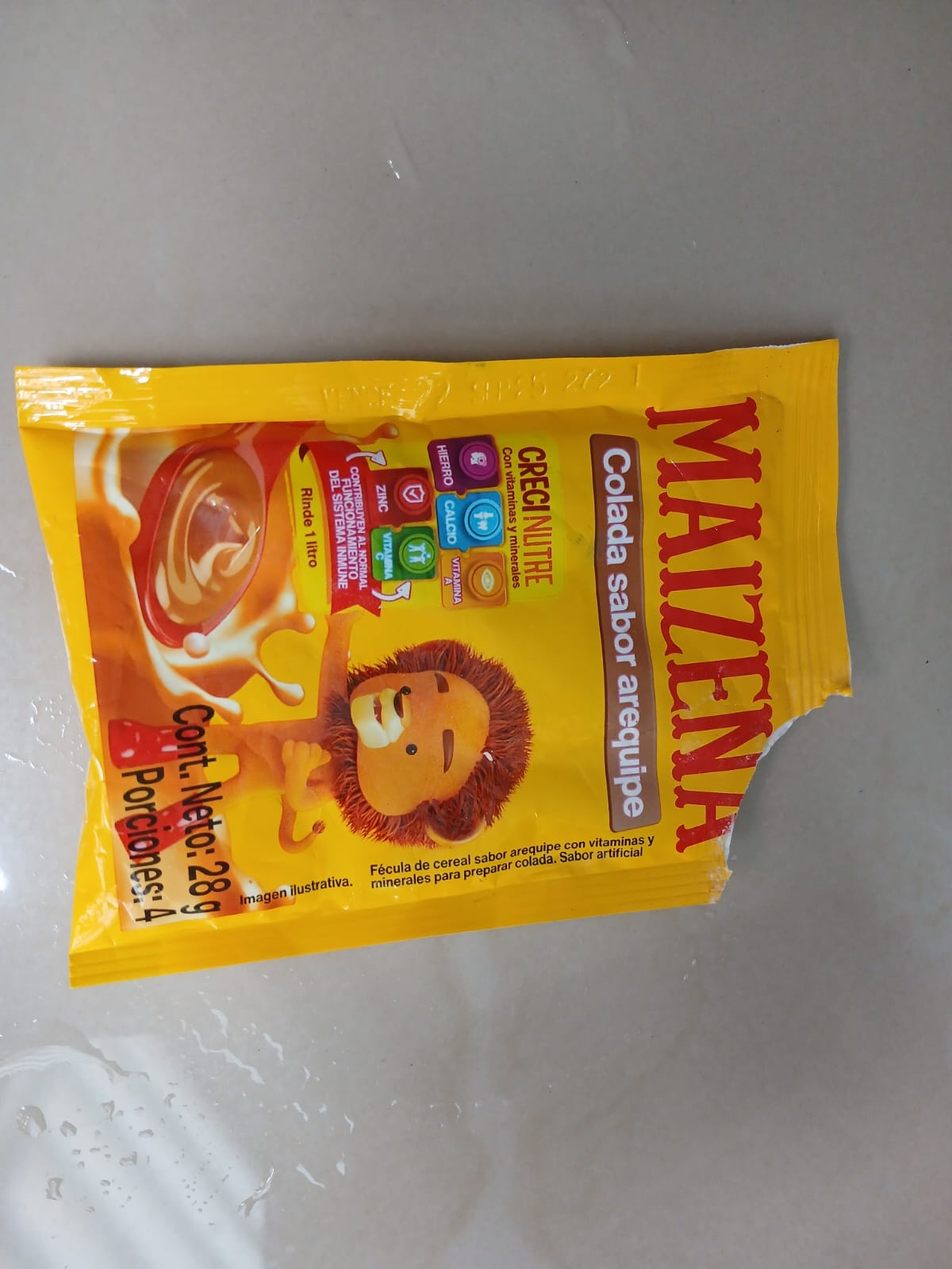Ordinario: (12, 336, 857, 984)
